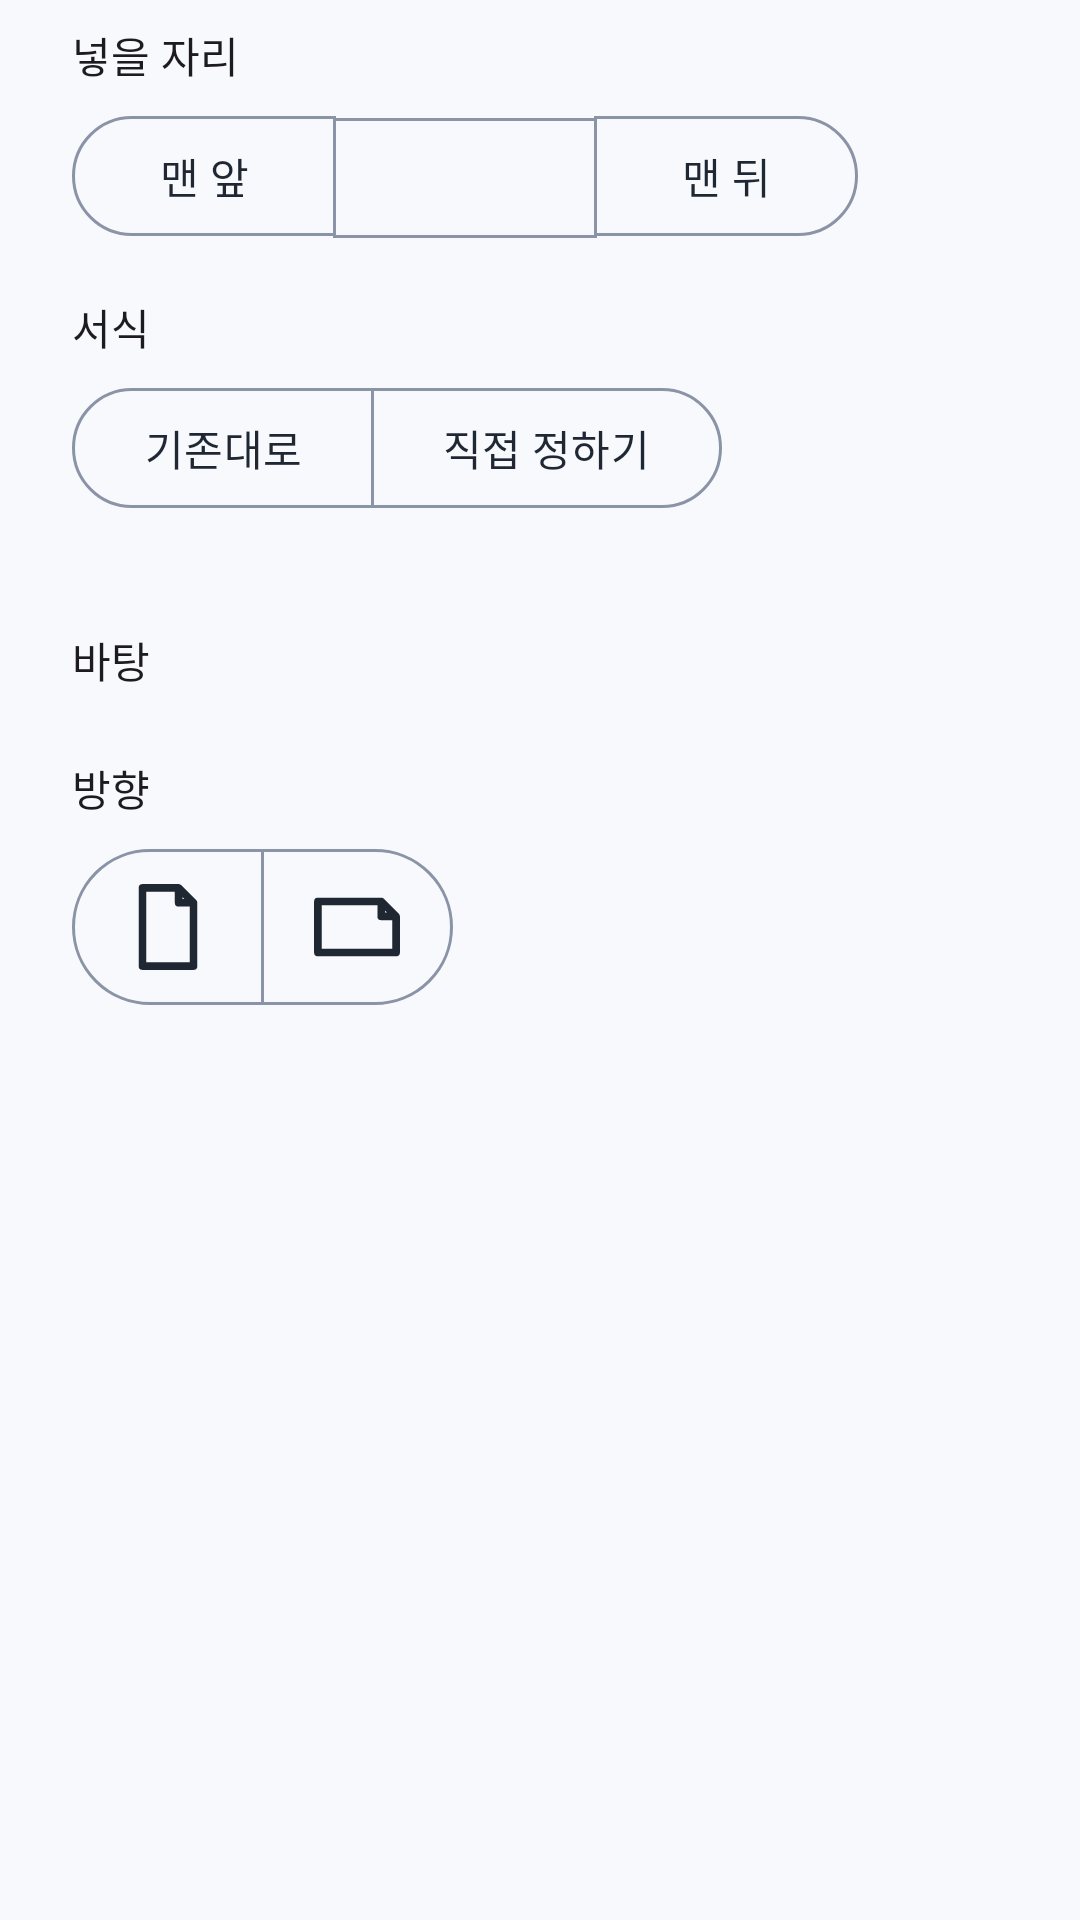

Where to tap for icons on this 1080px x 1920px app screen, as [x,y]:
가로: [357,927]
세로: [168,927]
